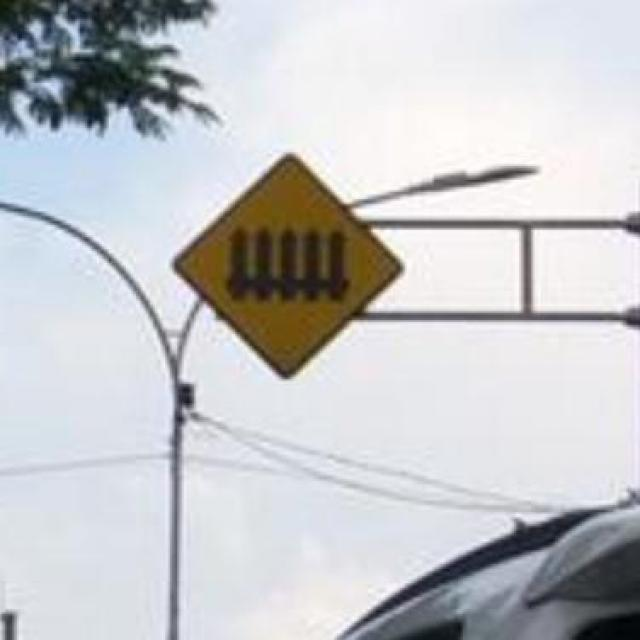traffic sign: (186, 166, 400, 379)
